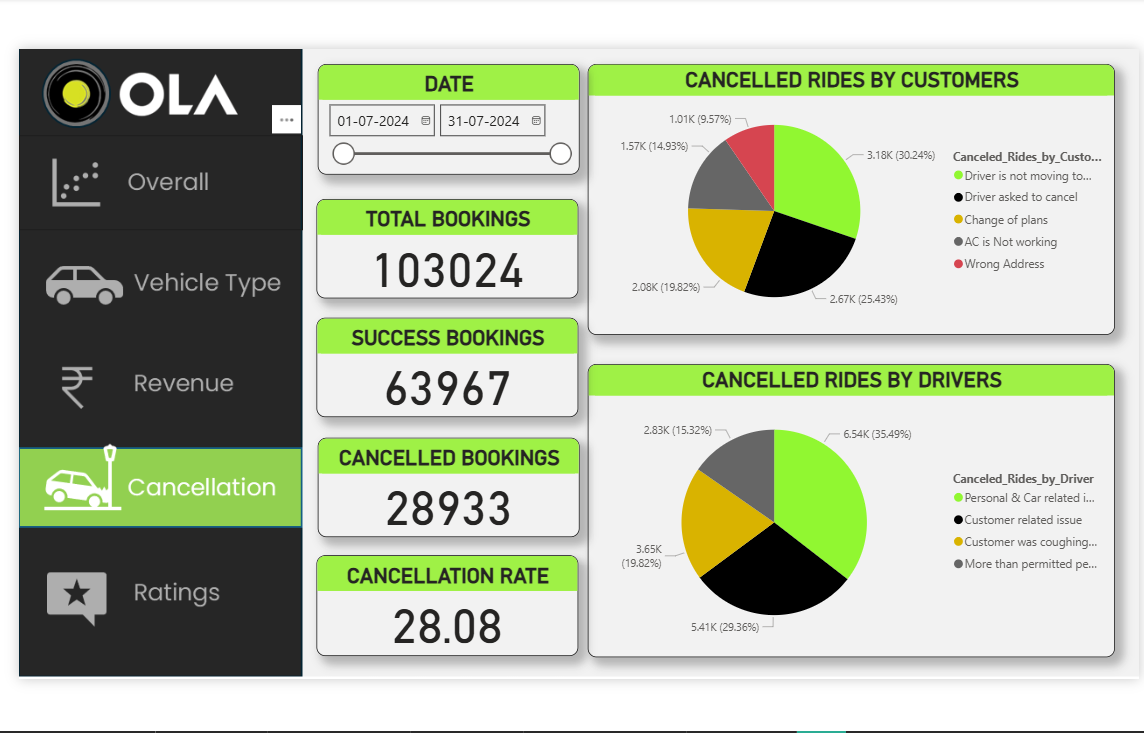

The dashboard page shown, as its layout file describes it:
{"tool":"powerbi","page":{"name":"CANCELLATIION","canvas":[1280,720],"ordinal":3},"visuals":[{"type":"actionButton","box":[0,198.8,323.9,108],"z":0},{"type":"actionButton","box":[0,326.6,323.8,108.4],"z":1000},{"type":"actionButton","box":[0,569.5,323.8,108.4],"z":2000},{"type":"actionButton","box":[0,98.8,323.8,108.4],"z":3000},{"type":"pieChart","title":"CANCELLED RIDES BY CUSTOMERS","fields":{"Category":["booking-july.Canceled_Rides_by_Customer"],"Y":["CountNonNull(booking-july.Canceled_Rides_by_Customer)"]},"box":[650.3,17.3,602.6,309.2],"z":4000},{"type":"pieChart","title":"CANCELLED RIDES BY DRIVERS","fields":{"Category":["booking-july.Canceled_Rides_by_Driver"],"Y":["CountNonNull(booking-july.Canceled_Rides_by_Driver)"]},"box":[650.3,359.8,602.6,335.2],"z":5000},{"type":"slicer","title":"DATE","fields":{"Values":["booking-july.Date"]},"box":[341.7,17.8,299.1,126.2],"z":6000},{"type":"card","title":"TOTAL BOOKINGS","fields":{"Values":["Count(booking-july.Booking_ID)"]},"box":[340.3,171.5,299.1,113.9],"z":7000},{"type":"card","title":"SUCCESS BOOKINGS","fields":{"Values":["Count(booking-july.Booking_ID)"]},"box":[340.3,307.4,299.1,113.9],"z":8000},{"type":"card","title":"CANCELLED BOOKINGS","fields":{"Values":["Count(booking-july.Booking_ID)"]},"box":[341.7,444.6,299.1,113.9],"z":9000},{"type":"card","title":"CANCELLATION RATE","fields":{"Values":["booking-july.PercentCancelled"]},"box":[340.3,579.1,299.1,115.3],"z":10000}]}

Visuals, with their boxes on the page's 1280x720 design canvas (x1, y1, x2, y2). These are canvas units, not pixel positions in the 1144x733 screenshot, which may show the page scaled, cropped or inside an application window:
actionButton: select_region(0, 199, 324, 307)
actionButton: select_region(0, 327, 324, 435)
actionButton: select_region(0, 570, 324, 678)
actionButton: select_region(0, 99, 324, 207)
"CANCELLED RIDES BY CUSTOMERS" pieChart: select_region(650, 17, 1253, 326)
"CANCELLED RIDES BY DRIVERS" pieChart: select_region(650, 360, 1253, 695)
"DATE" slicer: select_region(342, 18, 641, 144)
"TOTAL BOOKINGS" card: select_region(340, 172, 639, 285)
"SUCCESS BOOKINGS" card: select_region(340, 307, 639, 421)
"CANCELLED BOOKINGS" card: select_region(342, 445, 641, 558)
"CANCELLATION RATE" card: select_region(340, 579, 639, 694)
